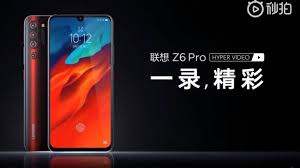lenovo: (43, 12, 115, 157)
